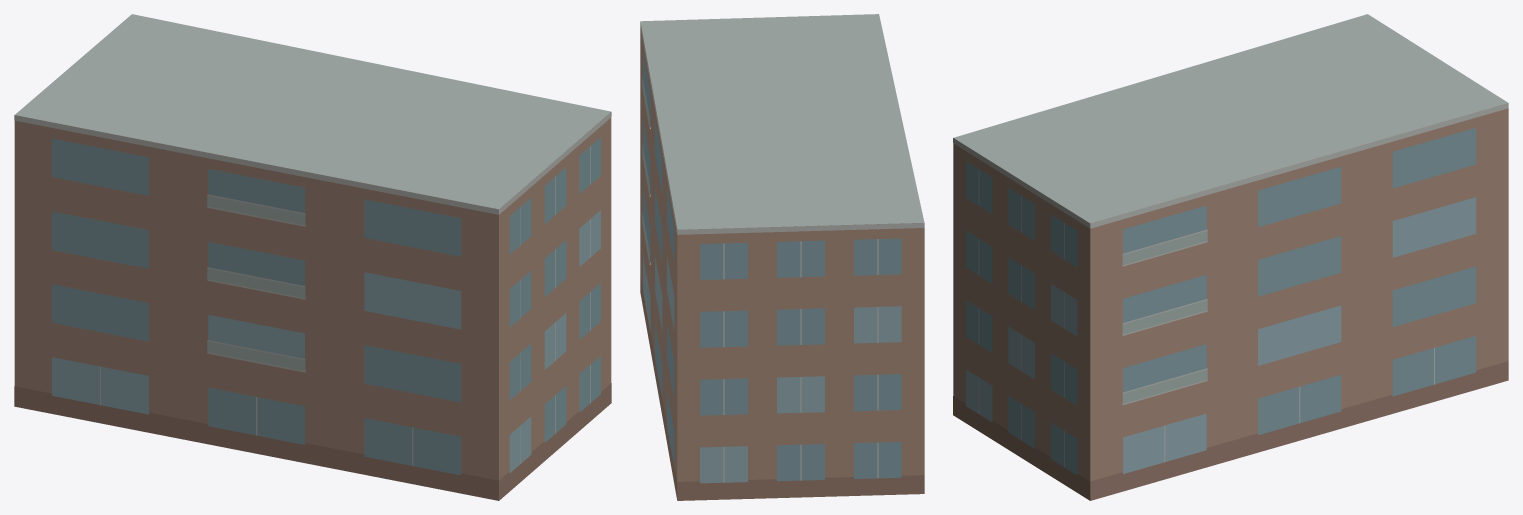
Rendered from survey-upis-32803978.glb.
3 renders of one model, left to right at view 1: azimuth 30°, elevation 25°; view 2: azimuth 150°, elevation 25°; view 3: azimuth 270°, elevation 25°, orthographic. The views are drawn at different scales.
Parts seen in each view (by area): view 1: survey-upis-32803978.tmp; view 2: survey-upis-32803978.tmp; view 3: survey-upis-32803978.tmp.
Part boxes in pixels (bbox=[...]): survey-upis-32803978.tmp: bbox=[14, 14, 611, 500]; survey-upis-32803978.tmp: bbox=[640, 14, 924, 500]; survey-upis-32803978.tmp: bbox=[953, 14, 1508, 500].
Bounding box in the file's own units: 20.9 × 12.9 × 23.42.
